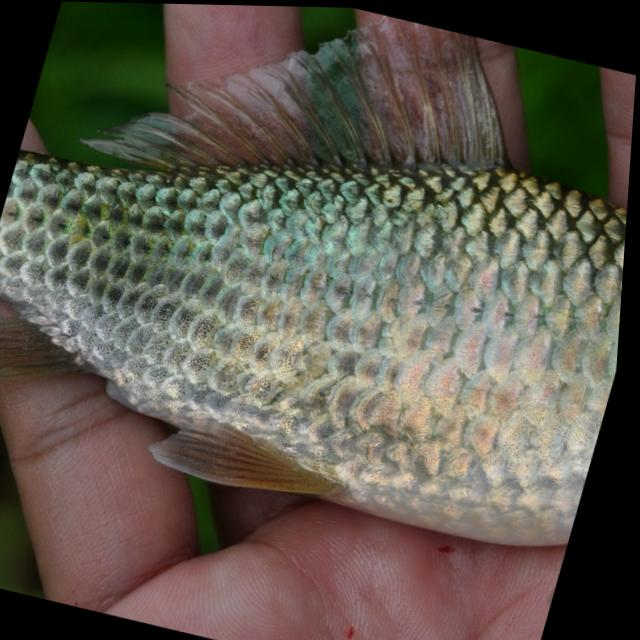fish: (0, 0, 640, 596)
